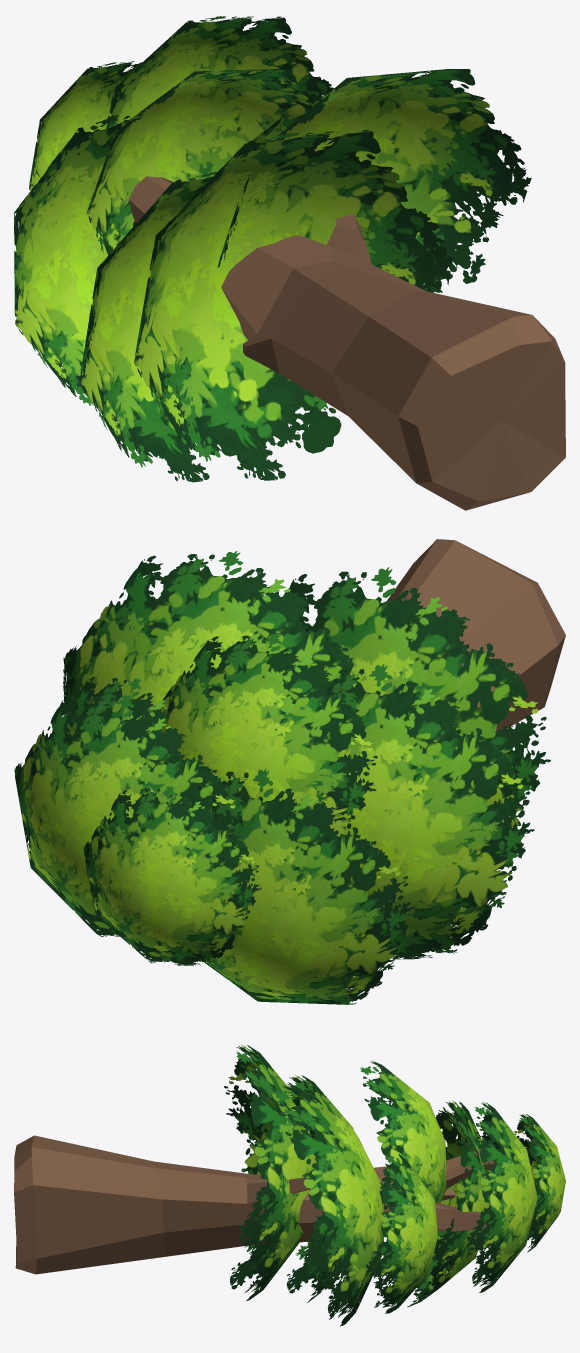
File: TreeLarge.fbx
The picture shows the model from 3 angles, top to bottom: view 1: azimuth 30°, elevation 25°; view 2: azimuth 150°, elevation 25°; view 3: azimuth 270°, elevation 25°; orthographic projection. The views are drawn at different scales.
Visible parts, largest first — view 1: TreeLarge; view 2: TreeLarge; view 3: TreeLarge.
Part boxes in pixels (<box>): TreeLarge: <box>14,16,565,510</box>; TreeLarge: <box>14,539,565,1004</box>; TreeLarge: <box>14,1044,565,1326</box>.
Bounding box in the file's own units: 2215 × 1714 × 3138.
